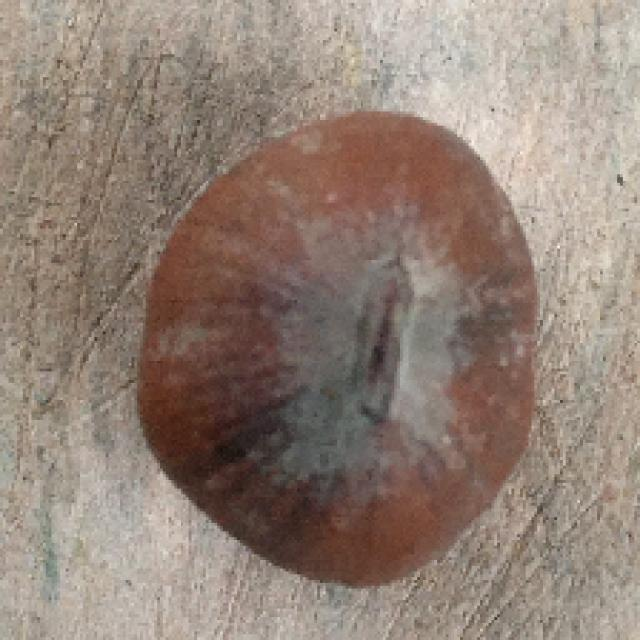damagedHazelnut: (139, 100, 543, 588)
